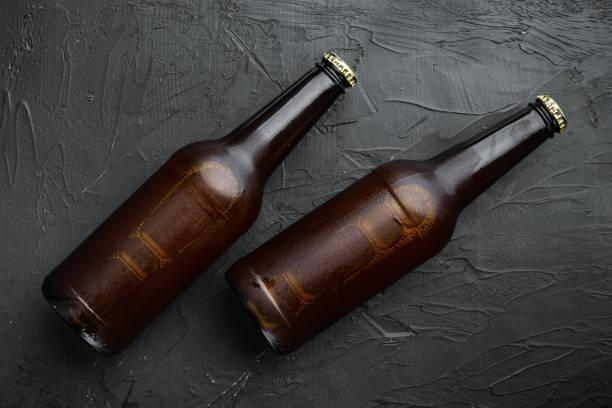bottle-glass: (44, 49, 358, 353), (225, 89, 570, 354)
